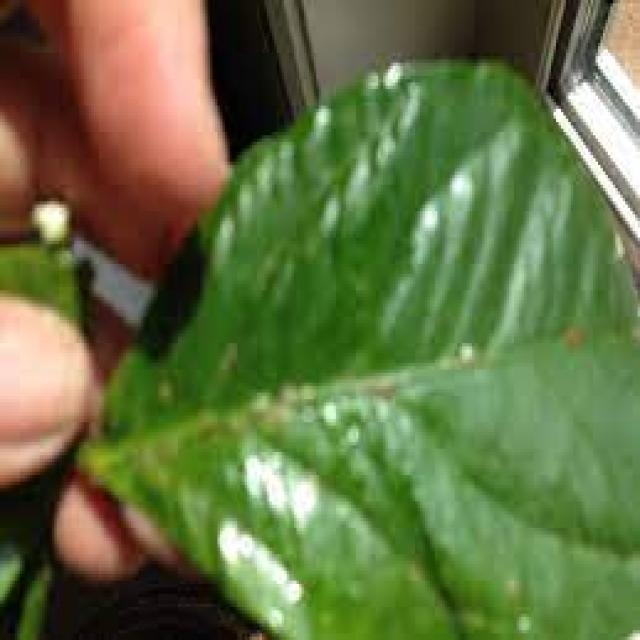scale_insect: (556, 310, 586, 353), (450, 330, 474, 366), (509, 600, 534, 634)
